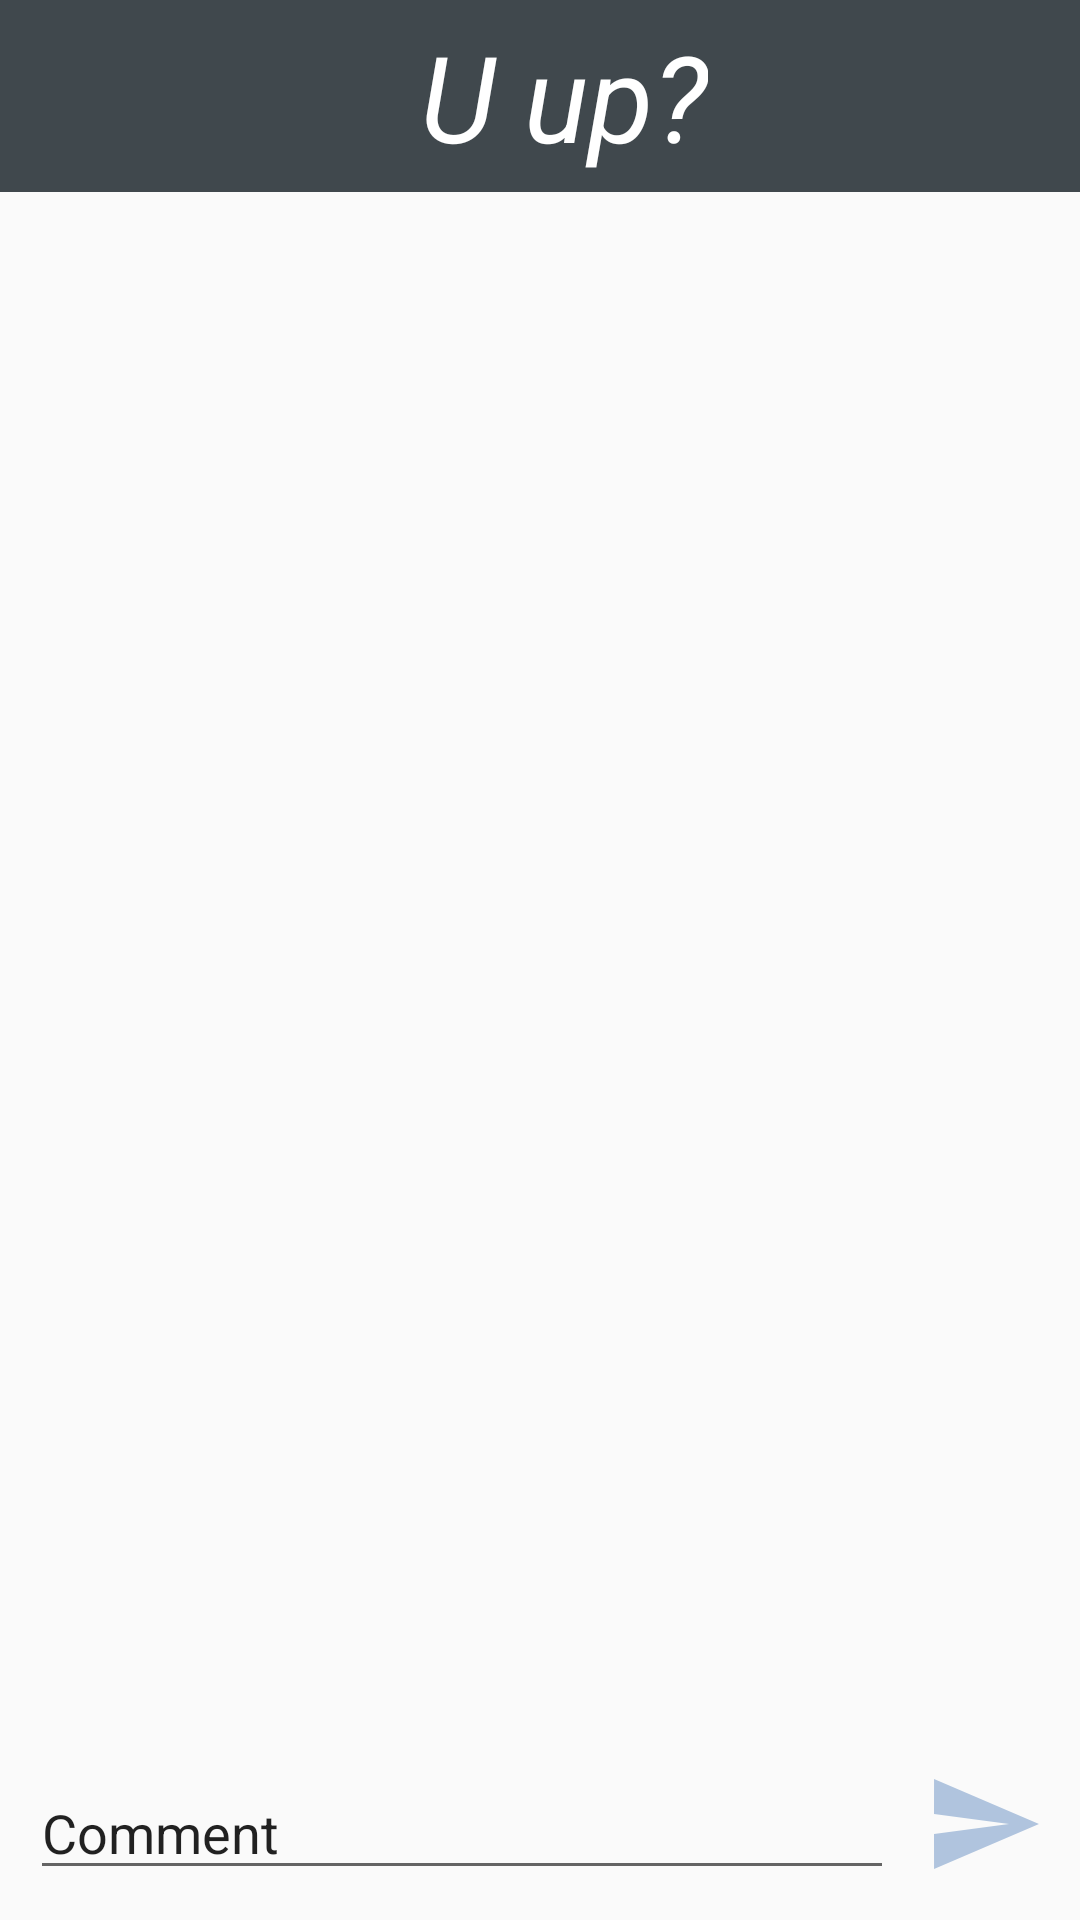

Screen size 1080 x 1920. Icon name, then its center in pixels as [x,y]:
send: [986,1824]
